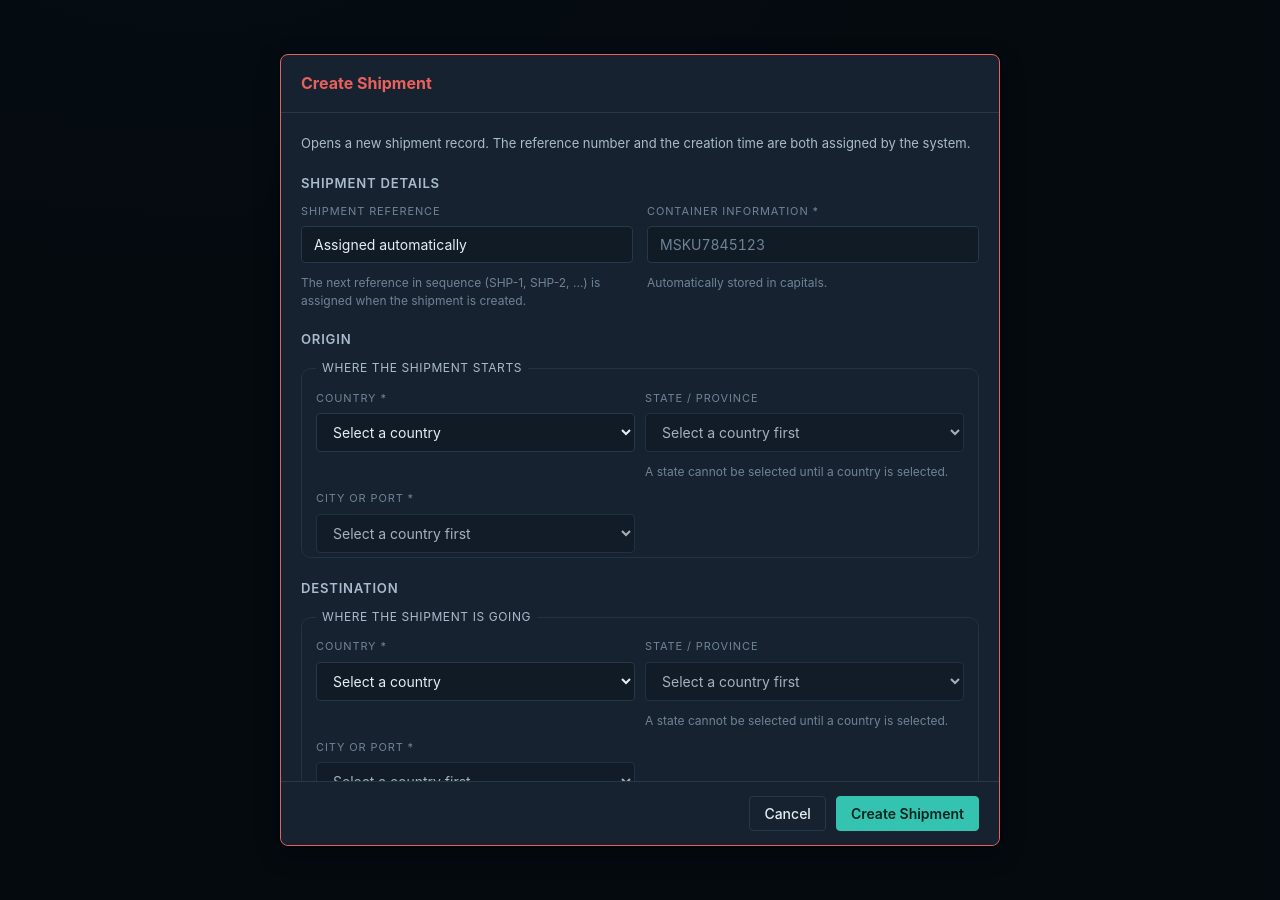
Scenario: country and state selection › the city control is disabled until a state is chosen
Check: the dropdown with id "origin-city" is disabled, box top-left (316, 514), bottom-right (635, 552)
Select "India" in the dropdown with id "origin-country": (476, 433) top-left (316, 413), bottom-right (635, 452)
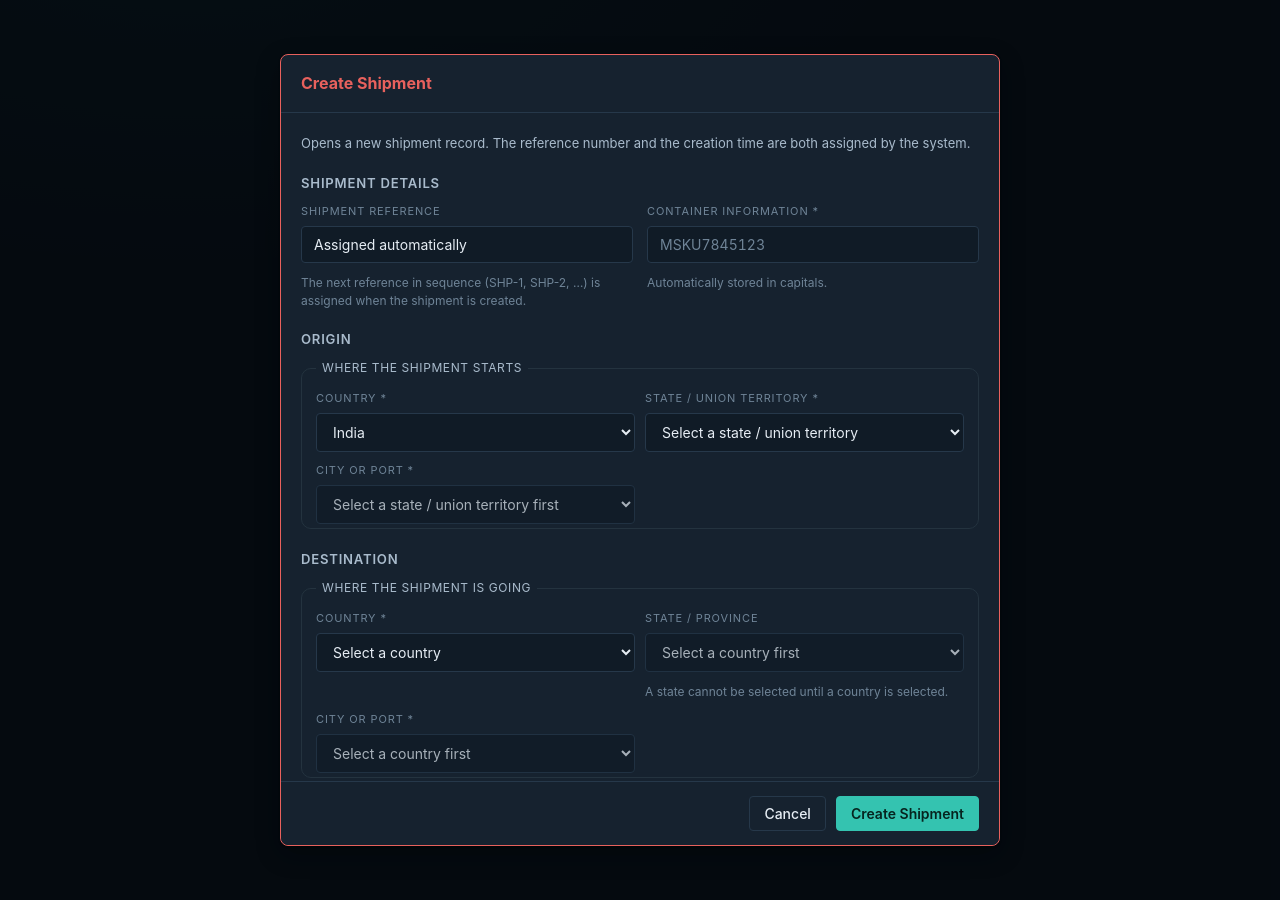
Check: the dropdown with id "origin-city" is disabled, box top-left (316, 485), bottom-right (635, 524)
Select "Tamil Nadu" in the dropdown with id "origin-state": (804, 433) top-left (645, 413), bottom-right (964, 452)
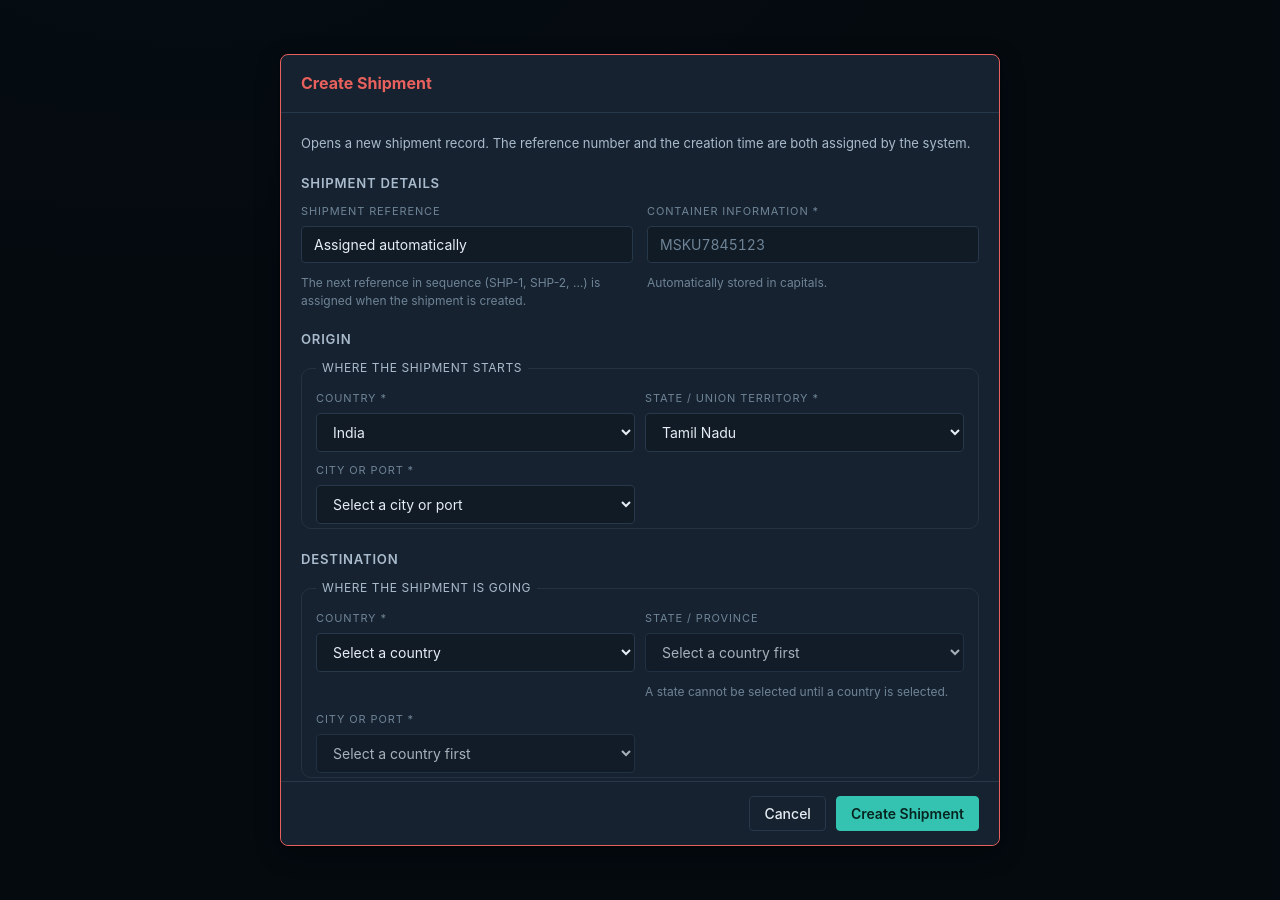
Check: the dropdown with id "origin-city" is enabled, box top-left (316, 485), bottom-right (635, 524)
